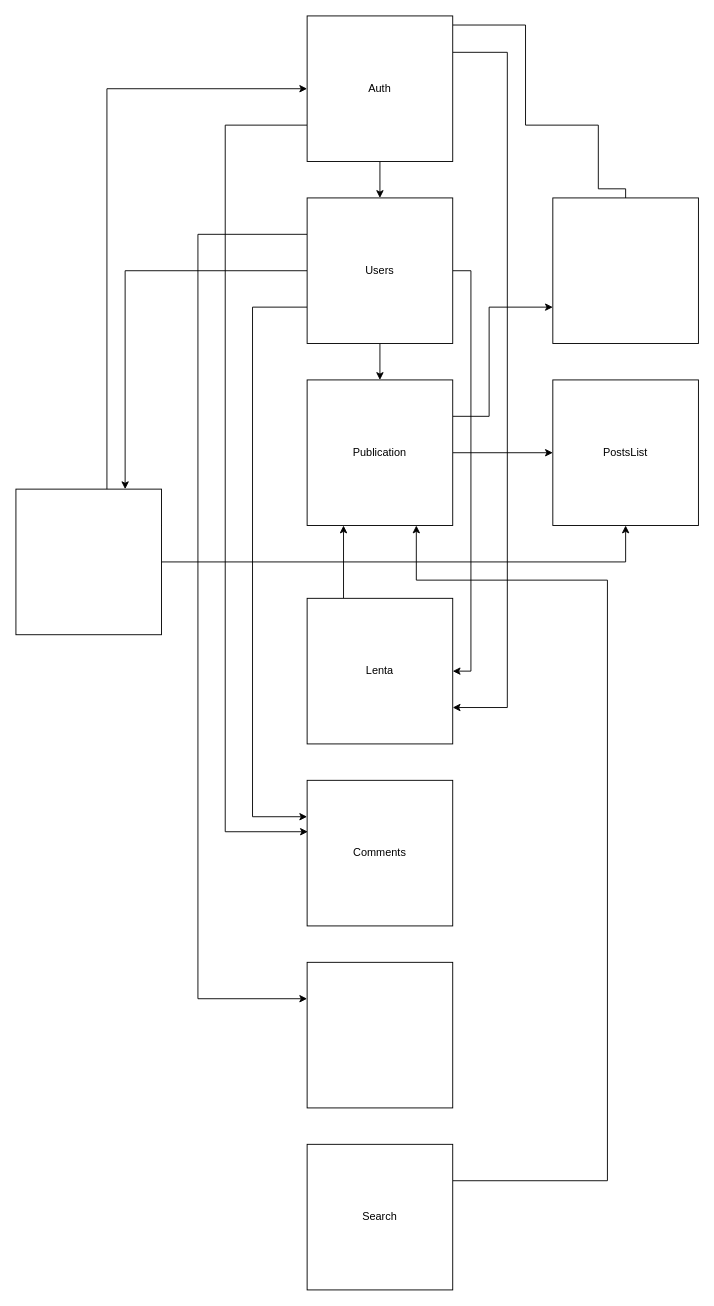
Image size: 714x1306. Some labels were removed from this diagram. The centre of each missing label's shape, as x and y in pixels:
API Gateway: the point at 88,561
Email: the point at 379,1034
Likes: the point at 625,270
